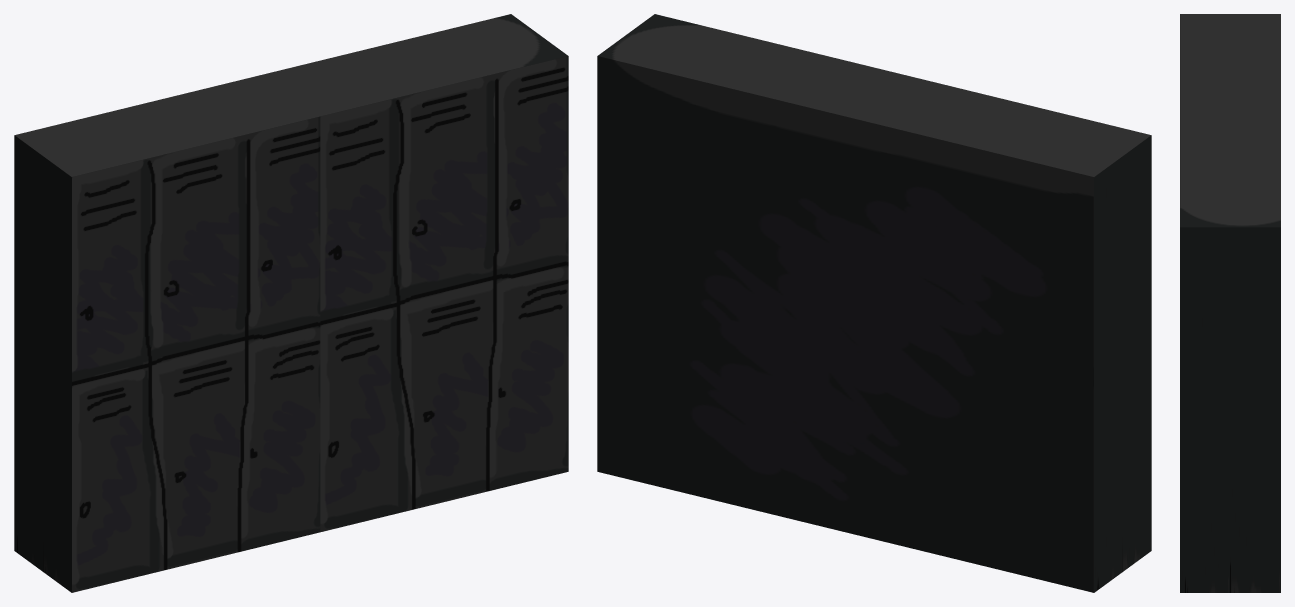
File: locker.glb
3 views of the same model, side by side, from view 1: azimuth 30°, elevation 25°; view 2: azimuth 150°, elevation 25°; view 3: azimuth 270°, elevation 25° (orthographic). The views are drawn at different scales.
Visible parts, largest first — view 1: Cube; view 2: Cube; view 3: Cube.
Boxes of the visible parts, bbox=[...] form: Cube: bbox=[14, 14, 568, 592]; Cube: bbox=[597, 14, 1151, 592]; Cube: bbox=[1180, 14, 1280, 592].
Bounding box in the file's own units: 5 × 4 × 1.
Materials: 1 (1 with a texture image).
